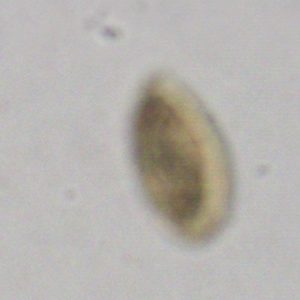Fasciola_hepatica_egg: (134, 68, 238, 249)
